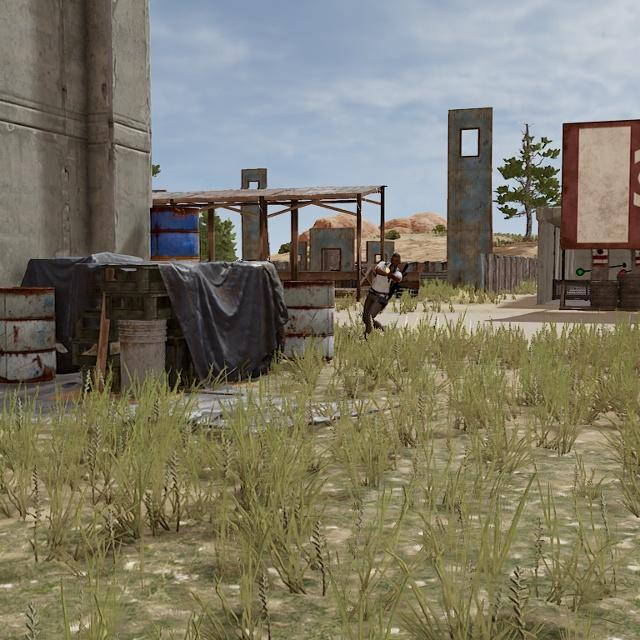head: (389, 253, 402, 269)
people: (360, 252, 404, 339)
